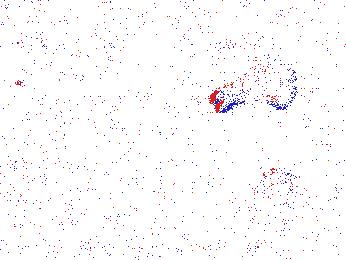flame jellyfish: (210, 53, 300, 115), (256, 166, 309, 216), (1, 169, 38, 235)
